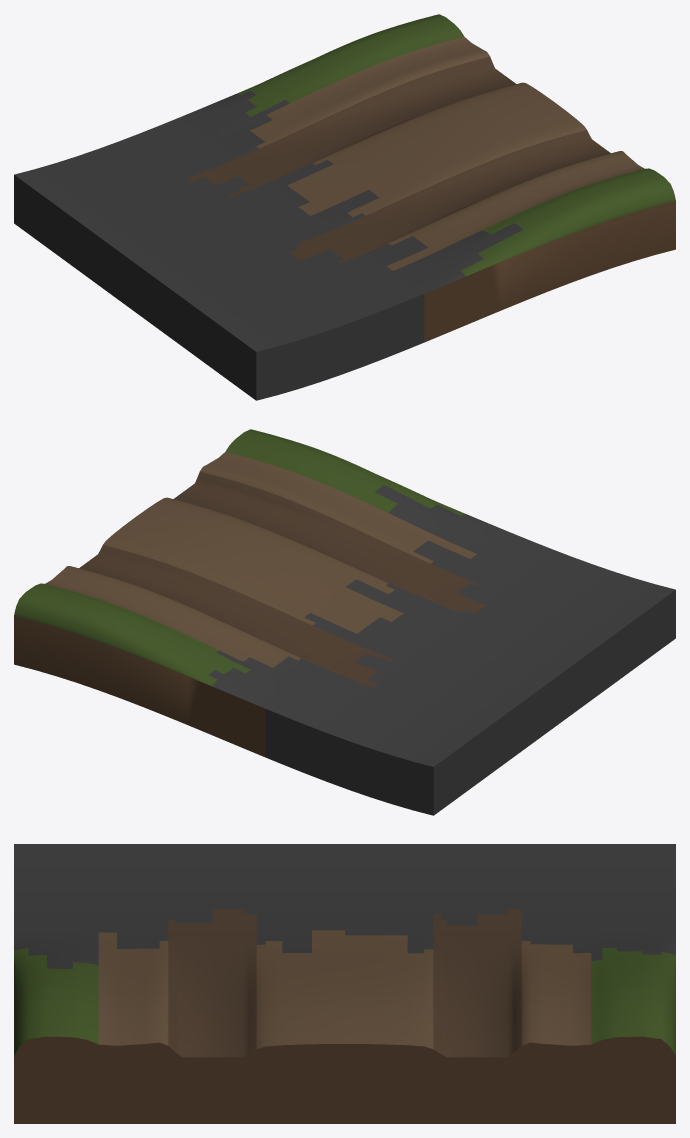
3 renders of one model, top to bottom at view 1: azimuth 30°, elevation 25°; view 2: azimuth 150°, elevation 25°; view 3: azimuth 270°, elevation 25°, orthographic. The views are drawn at different scales.
Visible parts, largest first — view 1: c0u; view 2: c0u; view 3: c0u.
Boxes of the visible parts, bbox=[...] form: c0u: bbox=[14, 14, 675, 400]; c0u: bbox=[14, 429, 675, 815]; c0u: bbox=[14, 844, 675, 1123].
Size of the model in its own units: 9 by 2.31 by 9.
